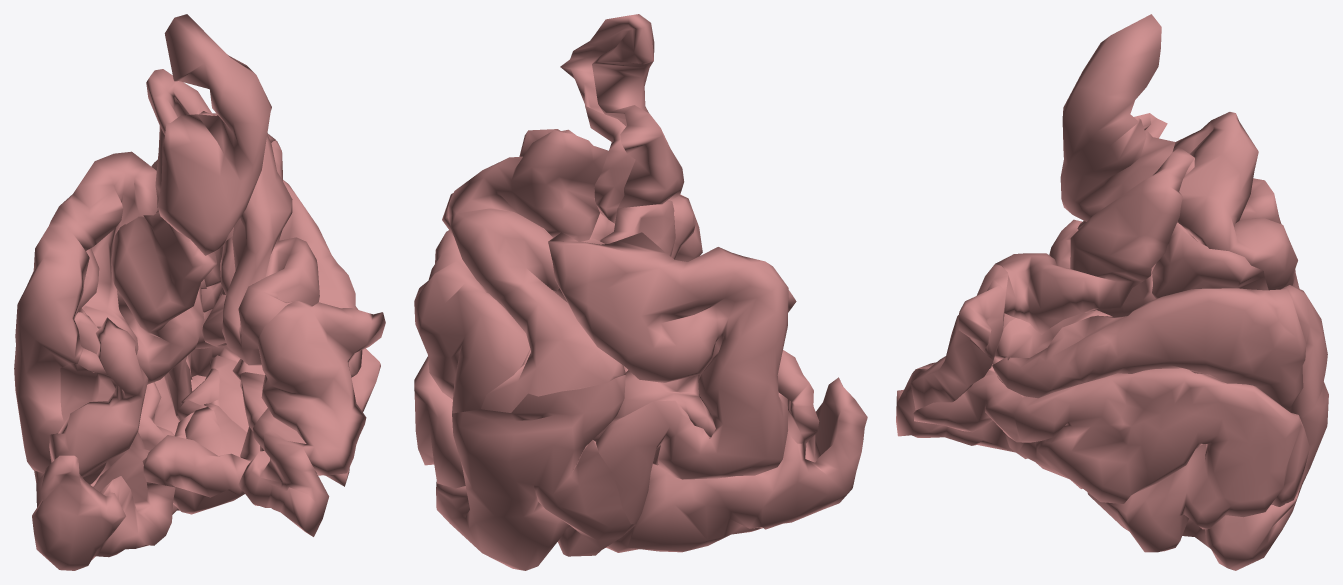
The model's file is occipital_L.001.fbx.
3 renders of one model, left to right at view 1: azimuth 30°, elevation 25°; view 2: azimuth 150°, elevation 25°; view 3: azimuth 270°, elevation 25°, orthographic. The views are drawn at different scales.
Visible parts, largest first — view 1: occipital_L; view 2: occipital_L; view 3: occipital_L.
Boxes of the visible parts, <box> form: occipital_L: <box>14,14,385,570</box>; occipital_L: <box>414,14,867,570</box>; occipital_L: <box>896,14,1328,570</box>.
Bounding box in the file's own units: 5.5 × 6.37 × 8.35.
